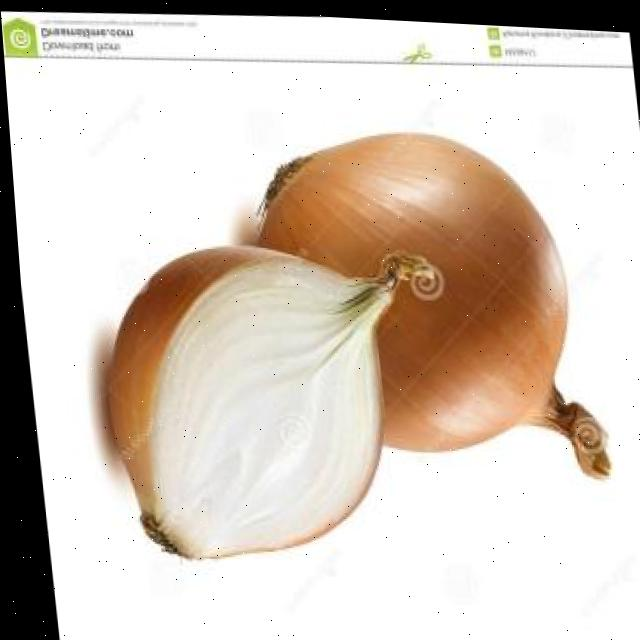Wet: (232, 115, 614, 489), (79, 226, 430, 573)
